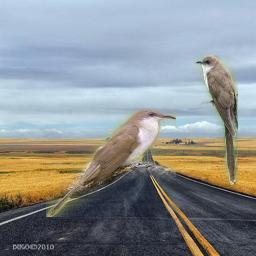Cuckoo: (46, 108, 176, 217), (195, 55, 238, 185)
